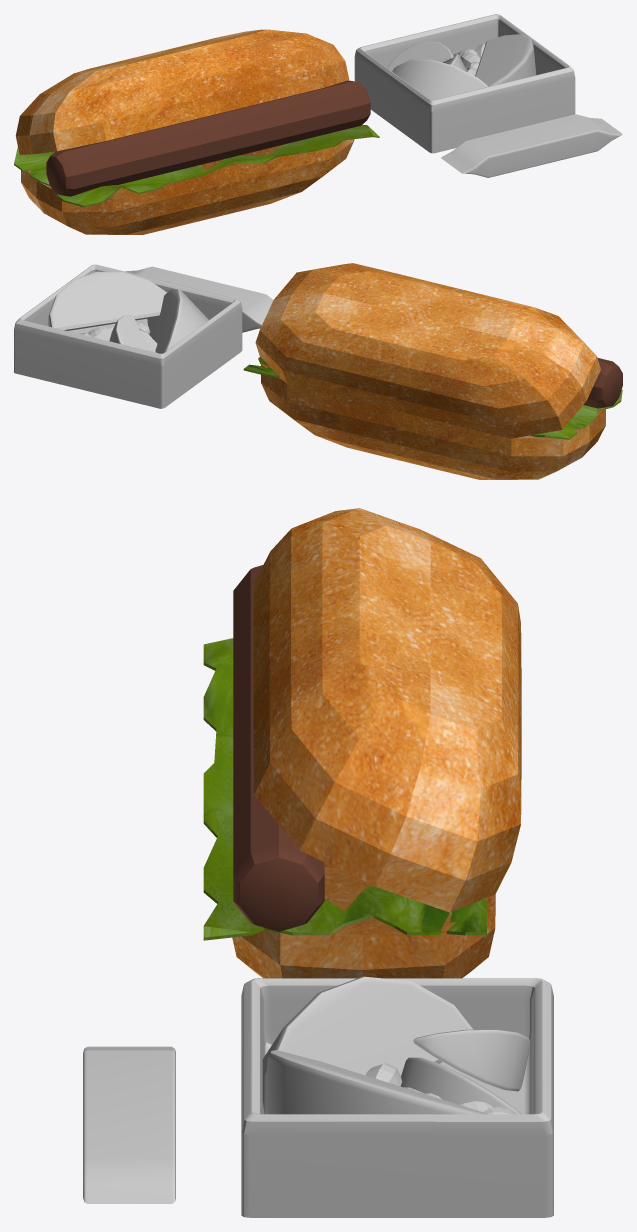
Rendered from SM_Snack.fbx.
3 views of the same model, one above another, from view 1: azimuth 30°, elevation 25°; view 2: azimuth 150°, elevation 25°; view 3: azimuth 270°, elevation 25° (orthographic). The views are drawn at different scales.
Parts seen in each view (by area): view 1: SM_panino, SM_vassoio, SM_barretta, SM_mela, SM_mela1, SM_arancia1; view 2: SM_panino, SM_vassoio, SM_mela, SM_barretta, SM_mela1, SM_arancia1, SM_arancia; view 3: SM_panino, SM_vassoio, SM_barretta, SM_mela1, SM_mela, SM_arancia1, SM_arancia.
Part boxes in pixels (x1,y1,x2,y2): SM_panino: (14, 29, 379, 234); SM_vassoio: (354, 14, 575, 153); SM_barretta: (441, 114, 622, 177); SM_mela: (475, 34, 536, 86); SM_mela1: (392, 59, 487, 100); SM_arancia1: (387, 41, 453, 71); SM_panino: (243, 263, 622, 479); SM_vassoio: (14, 264, 242, 408); SM_mela: (48, 271, 166, 330); SM_barretta: (125, 266, 273, 332); SM_mela1: (147, 289, 208, 353); SM_arancia1: (109, 315, 148, 350); SM_arancia: (94, 327, 157, 352); SM_panino: (203, 508, 521, 978); SM_vassoio: (241, 978, 553, 1217); SM_barretta: (83, 1046, 175, 1203); SM_mela1: (262, 976, 472, 1114); SM_mela: (265, 1050, 488, 1114); SM_arancia1: (413, 1029, 530, 1091); SM_arancia: (401, 1057, 521, 1114).
Size of the model in its own units: 0.2835 by 0.0809 by 0.1108.
